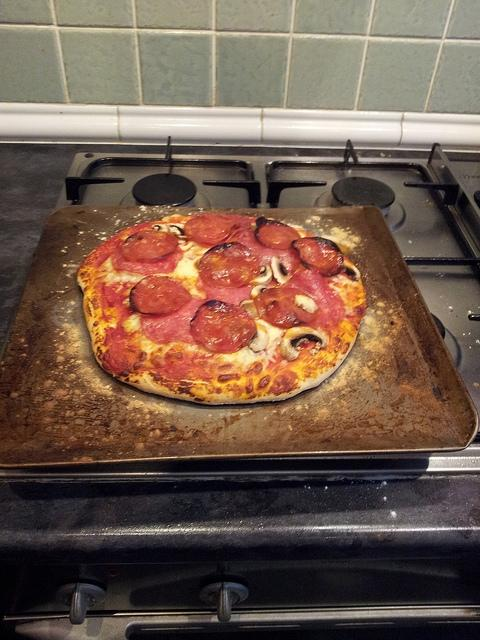mushroom: (280, 325, 330, 361), (270, 256, 292, 284), (248, 265, 274, 286), (294, 294, 319, 314), (340, 260, 360, 282), (242, 302, 260, 321), (250, 334, 268, 352), (163, 223, 185, 235), (250, 285, 268, 299), (152, 224, 169, 234), (239, 299, 254, 307)
